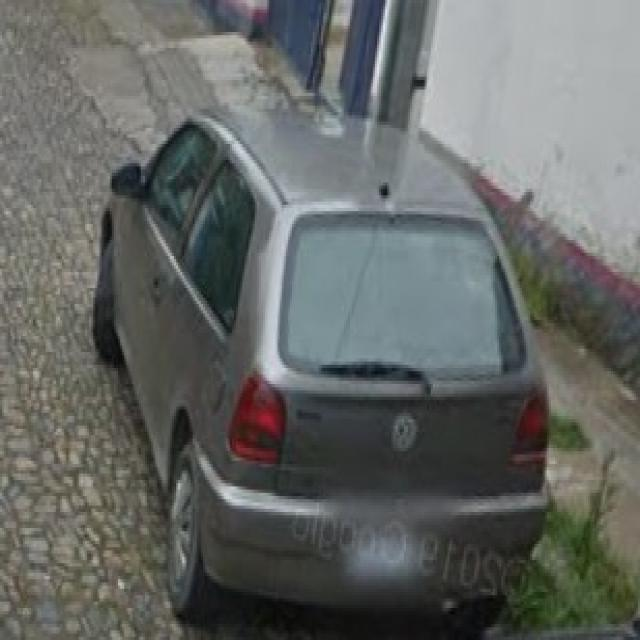car: (92, 100, 553, 623)
